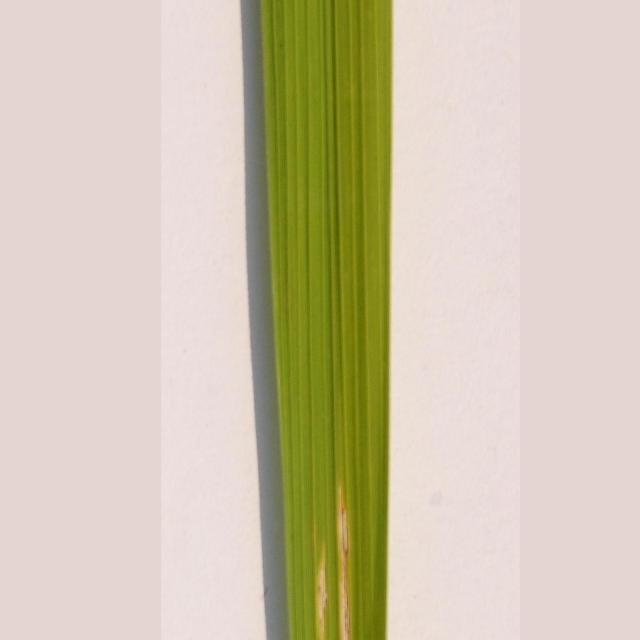leaf blight: (295, 473, 368, 640)
